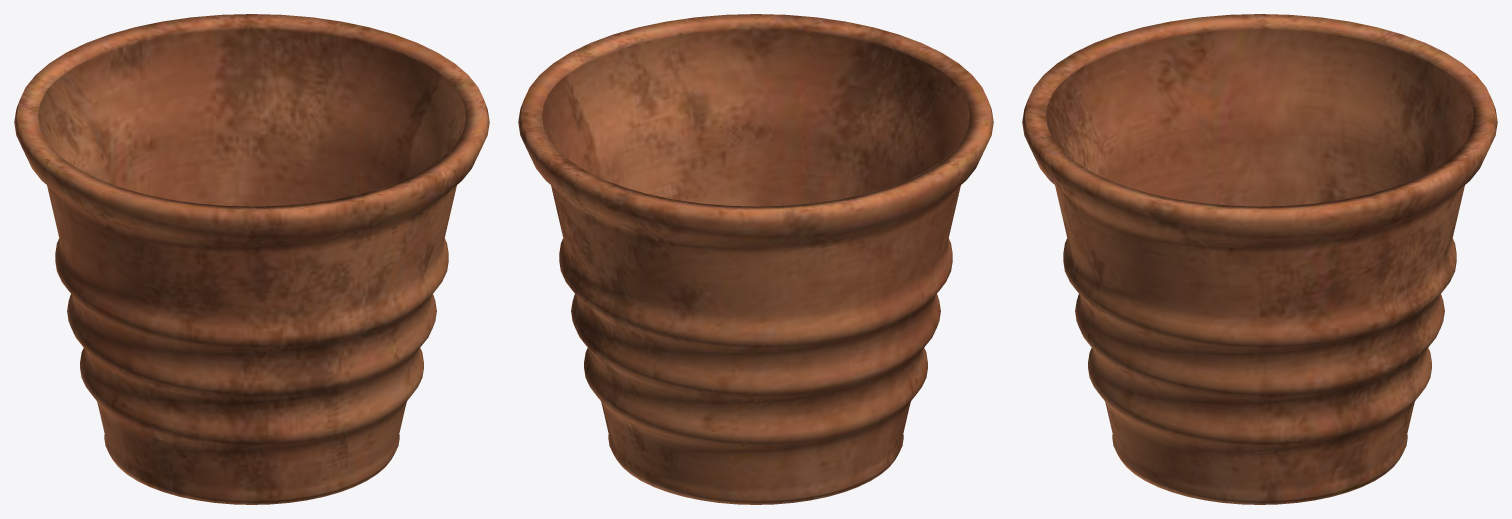
The model's file is pot_ribbed_web.glb.
The picture shows the model from 3 angles, left to right: view 1: azimuth 30°, elevation 25°; view 2: azimuth 150°, elevation 25°; view 3: azimuth 270°, elevation 25°; orthographic projection.
Parts seen in each view (by area): view 1: PotRibbed_Mesh; view 2: PotRibbed_Mesh; view 3: PotRibbed_Mesh.
Boxes of the visible parts, x1=… form: PotRibbed_Mesh: x1=14, y1=14, x2=489, y2=504; PotRibbed_Mesh: x1=518, y1=14, x2=993, y2=504; PotRibbed_Mesh: x1=1022, y1=14, x2=1497, y2=504.
Size of the model in its own units: 0.28 by 0.215 by 0.28.
Materials: 1 (1 with a texture image).
